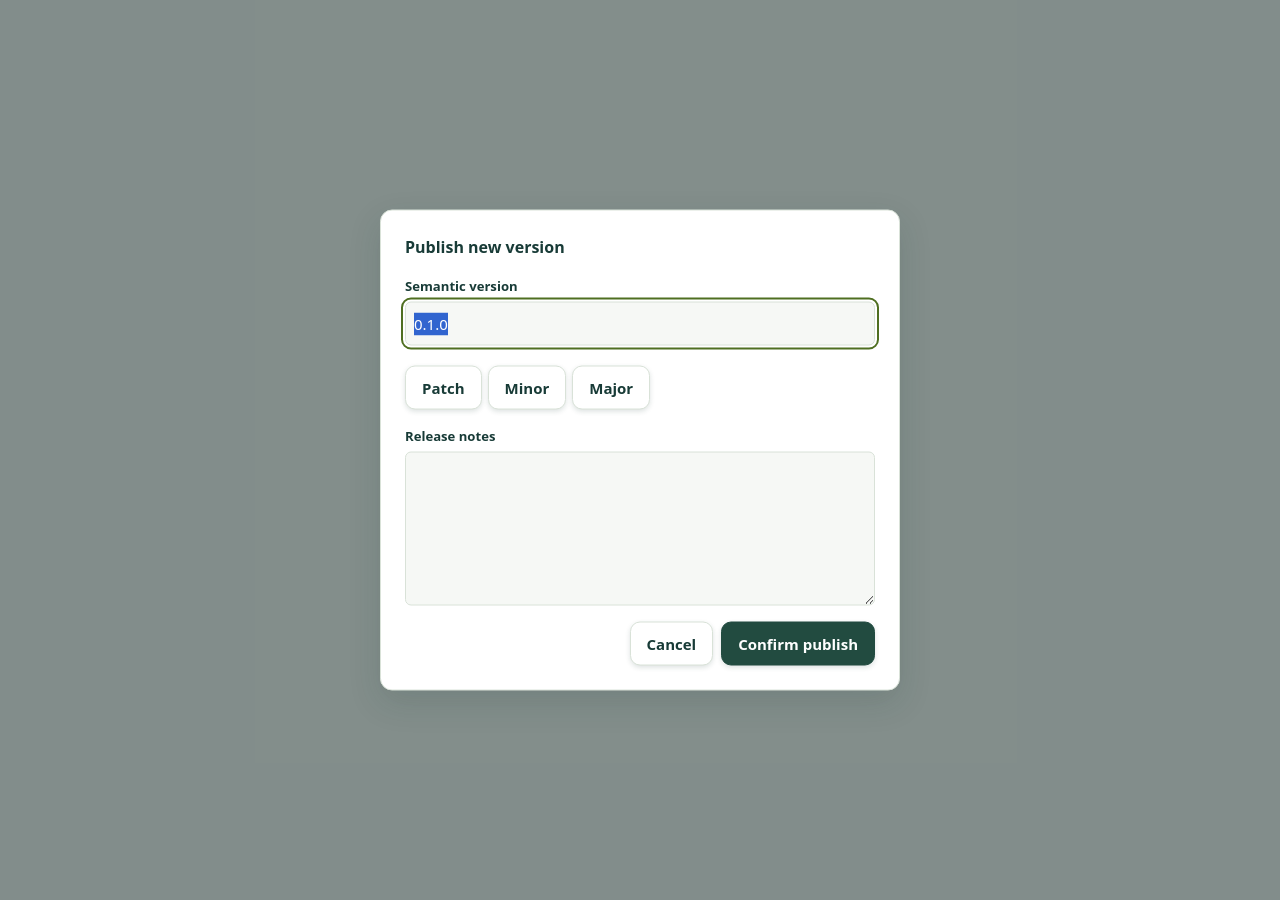
Scenario: PublishDialog › lists every breaking-change finding returned by the server
Type "destructive change" into the text box with test id "publish-dialog-release-notes".
click(640, 529); type("destructive change")  # box x1=405 y1=452 x2=875 y2=606
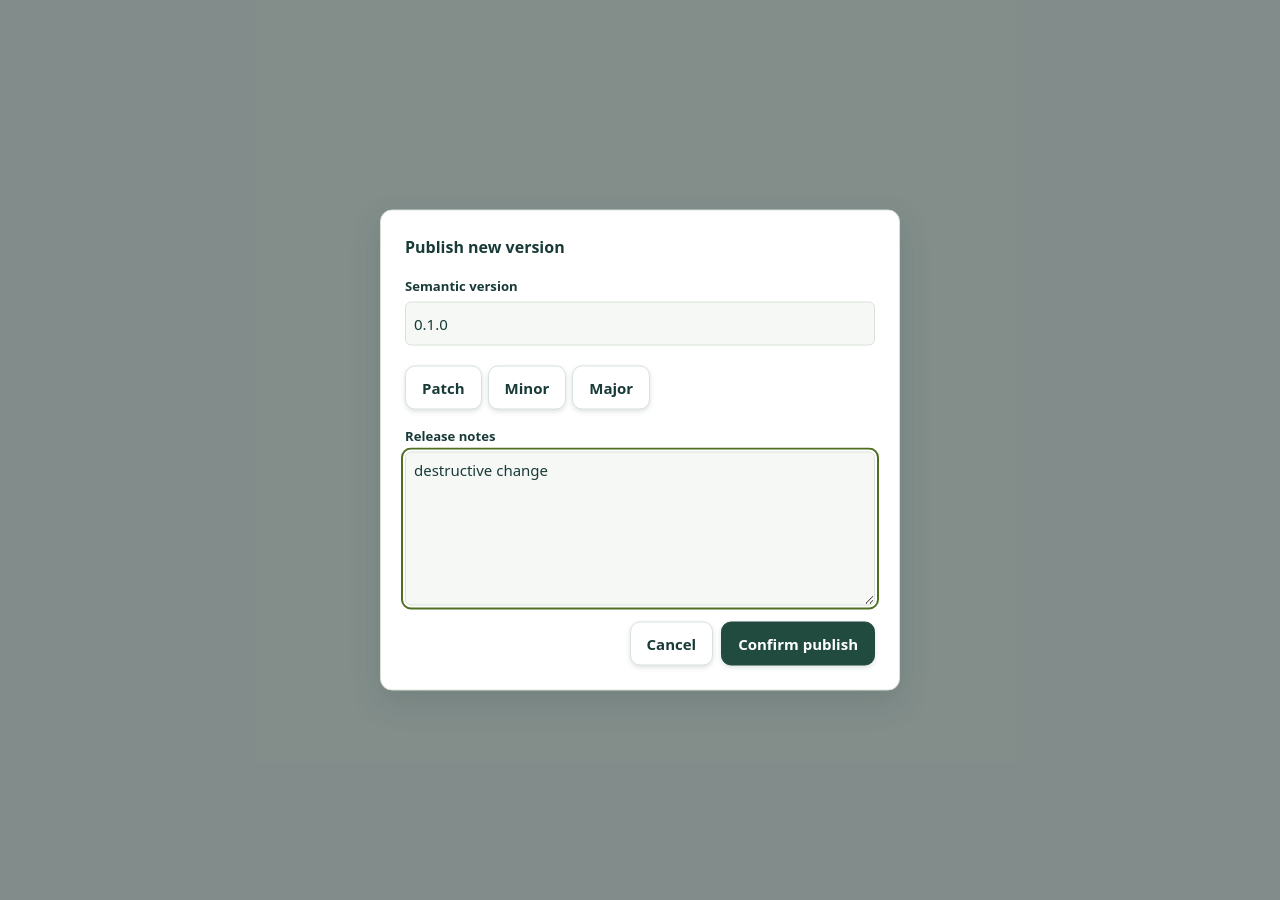
Click the button with test id "publish-dialog-submit".
click(798, 644)  # box x1=721 y1=622 x2=875 y2=666
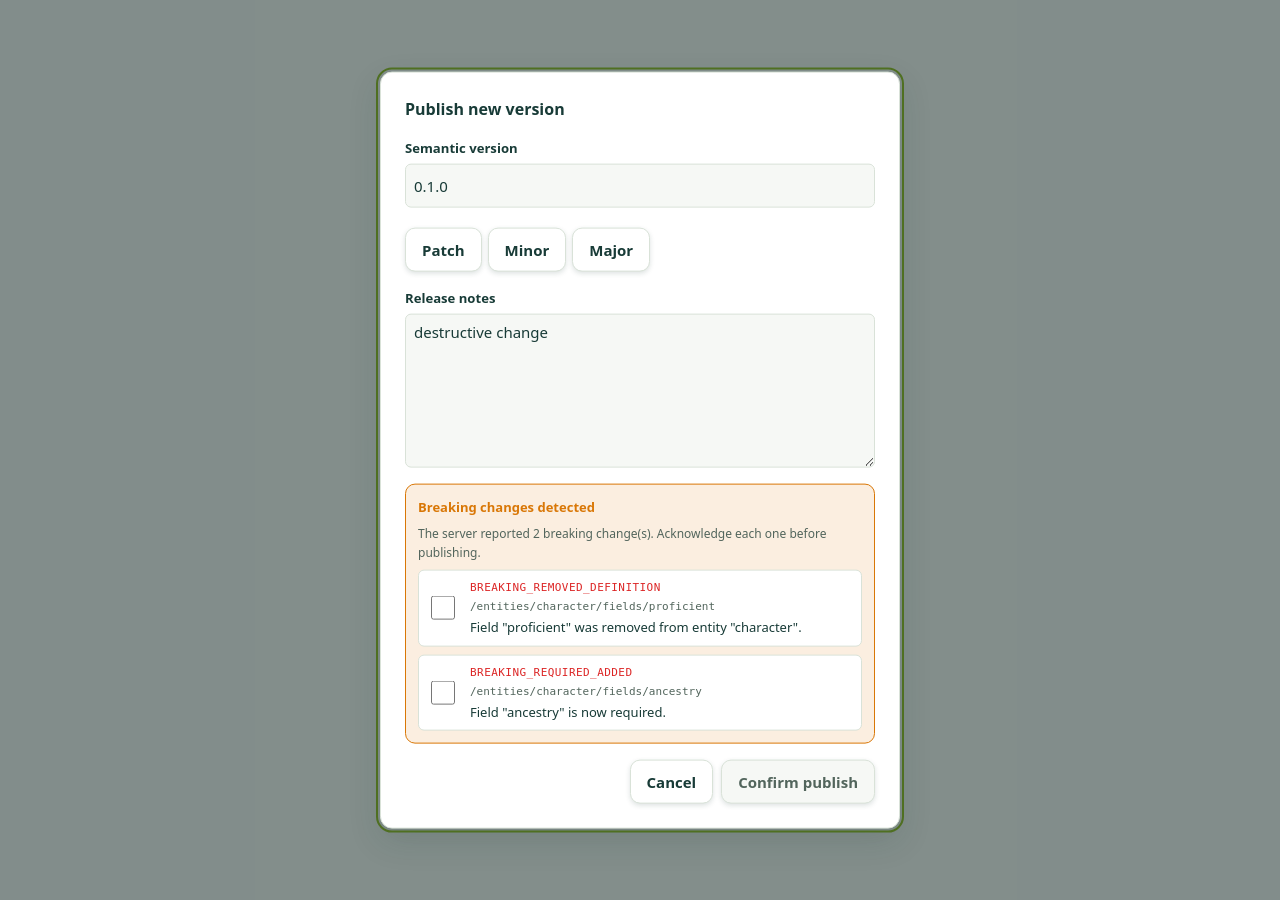
Result: the list item with test id "publish-dialog-finding-breaking_removed_definition-/entities/character/fields/proficient" is shown at x1=418 y1=570 x2=862 y2=646
Result: the list item with test id "publish-dialog-finding-breaking_removed_definition-/entities/character/fields/proficient" shows "breaking_removed_definition" at x1=470 y1=581 x2=661 y2=594
Result: the list item with test id "publish-dialog-finding-breaking_removed_definition-/entities/character/fields/proficient" shows "/entities/character/fields/proficient" at x1=470 y1=600 x2=715 y2=613
